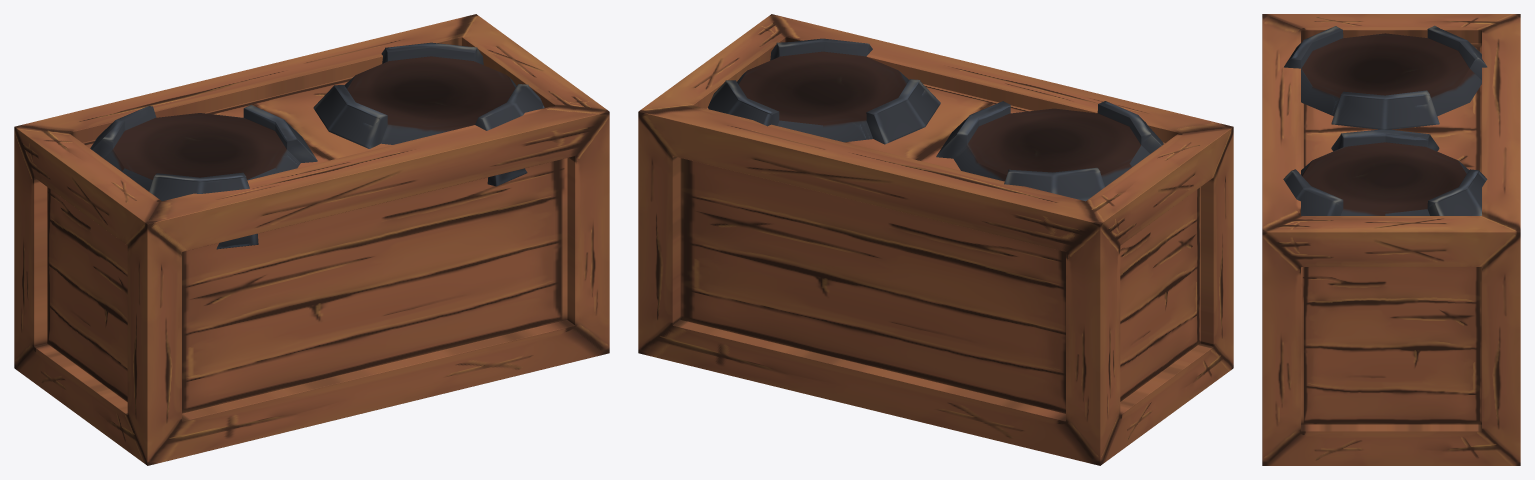
Rendered from Chest_1.fbx.
The picture shows the model from 3 angles, left to right: view 1: azimuth 30°, elevation 25°; view 2: azimuth 150°, elevation 25°; view 3: azimuth 270°, elevation 25°; orthographic projection. The views are drawn at different scales.
Parts seen in each view (by area): view 1: Chest; view 2: Chest; view 3: Chest.
Part boxes in pixels (left/top/right/bottom): Chest: left=14, top=14, right=609, bottom=465; Chest: left=638, top=14, right=1233, bottom=465; Chest: left=1262, top=14, right=1520, bottom=465.
Size of the model in its own units: 400 by 208 by 200.
